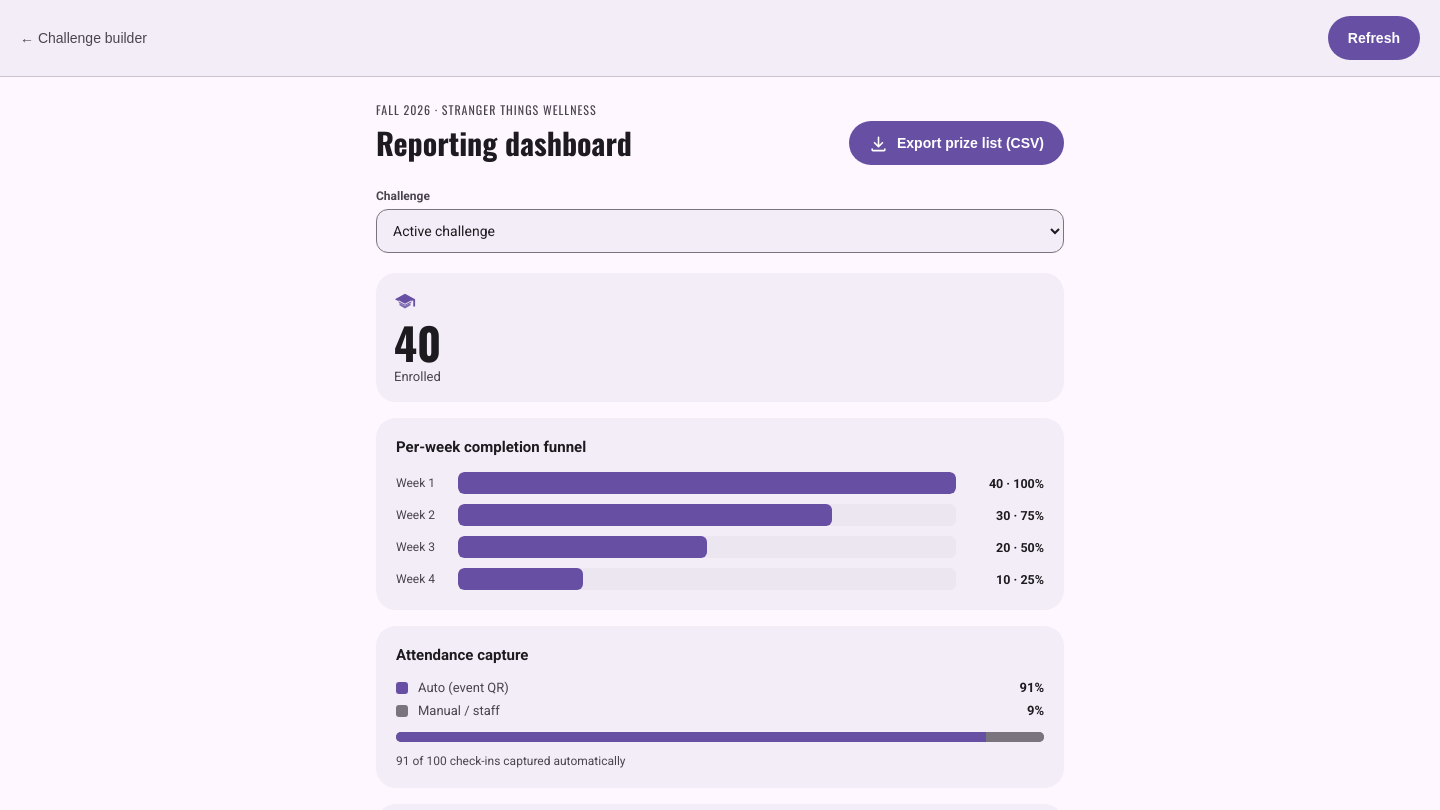
it: Challenge selector (US-23 / FR-F3) › shows the chosen challenge's numbers
Select "Spring 2026 · Stranger Things Wellness" in the dropdown labelled "Challenge" at {"x": 720, "y": 231}, box x1=376 y1=209 x2=1064 y2=253
(page scrolled)
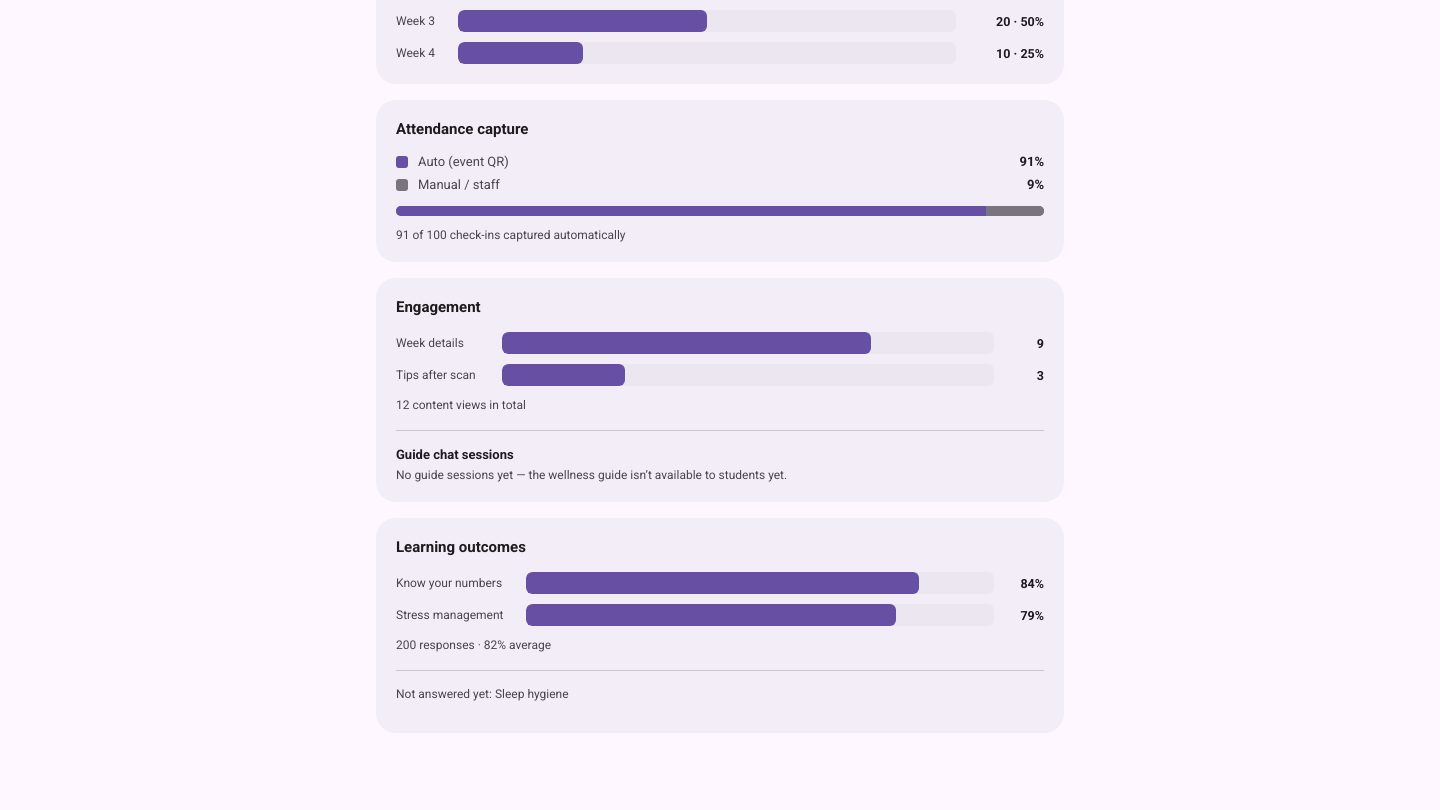
Expected: the text "12 content views in total" is shown, x1=396 y1=398 x2=526 y2=412
